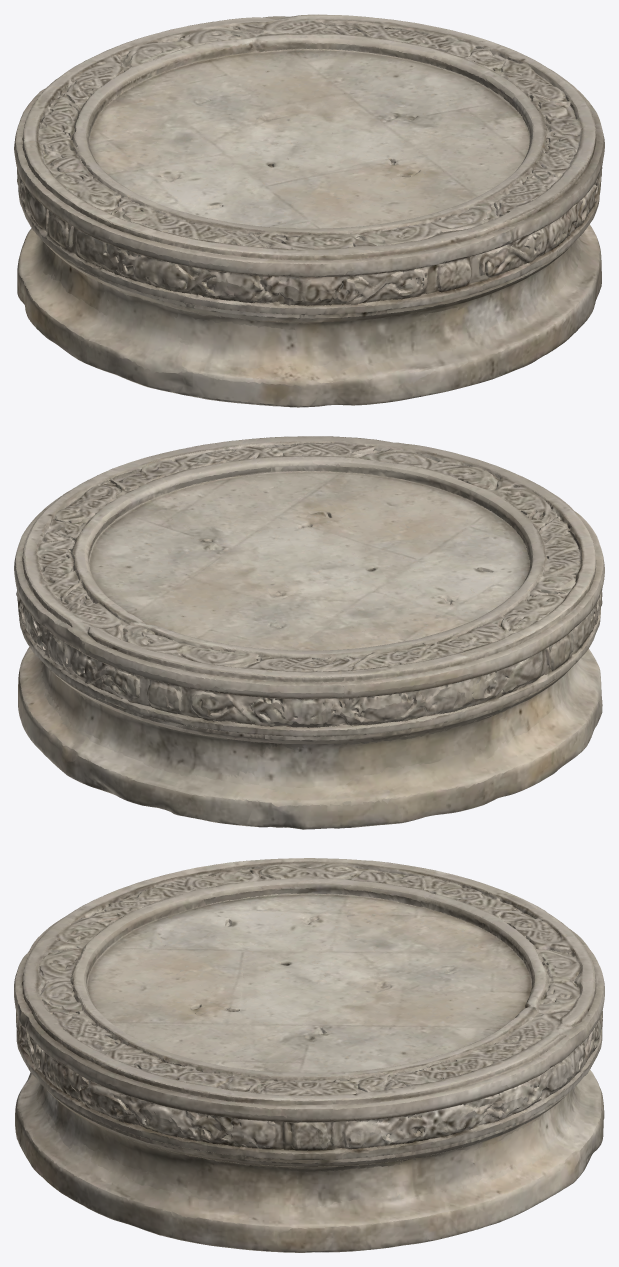
File: archway.glb
The picture shows the model from 3 angles, top to bottom: view 1: azimuth 30°, elevation 25°; view 2: azimuth 150°, elevation 25°; view 3: azimuth 270°, elevation 25°; orthographic projection.
Parts seen in each view (by area): view 1: geometry_0; view 2: geometry_0; view 3: geometry_0.
Boxes of the visible parts, x1,y1,x2,y2 form: geometry_0: (14,14,604,407); geometry_0: (14,436,604,829); geometry_0: (14,858,604,1252).
Size of the model in its own units: 0.9 by 0.2587 by 0.8999.
Materials: 1 (1 with a texture image).
